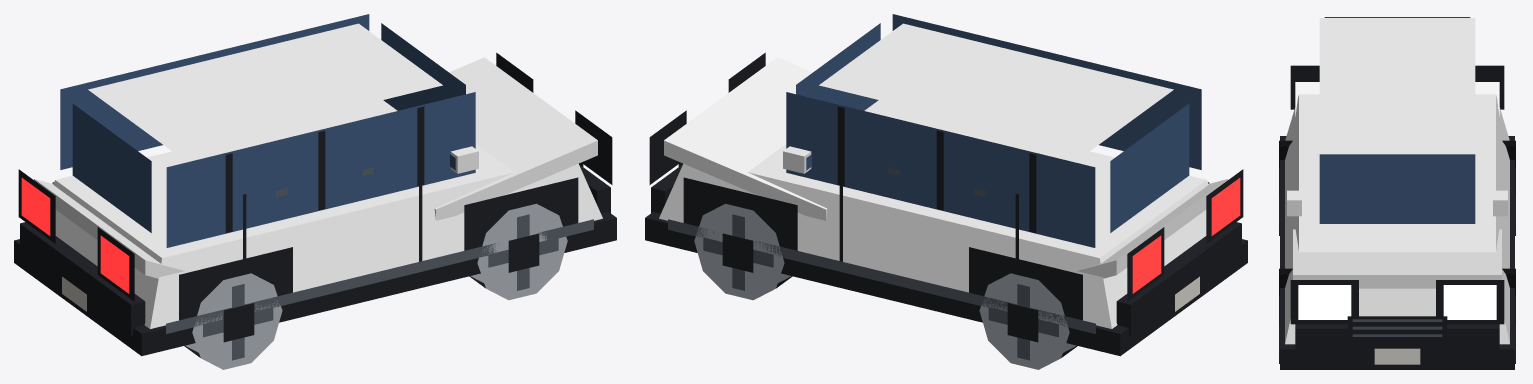
The model's file is car_crossover.glb.
3 views of the same model, side by side, from view 1: azimuth 30°, elevation 25°; view 2: azimuth 150°, elevation 25°; view 3: azimuth 270°, elevation 25° (orthographic). The views are drawn at different scales.
Visible parts, largest first — view 1: car_crossover; view 2: car_crossover; view 3: car_crossover.
Boxes of the visible parts, x1,y1,x2,y2 form: car_crossover: (14,14,616,369); car_crossover: (645,14,1247,369); car_crossover: (1279,17,1515,369).
Size of the model in its own units: 0.4061 by 0.1682 by 0.1924.
